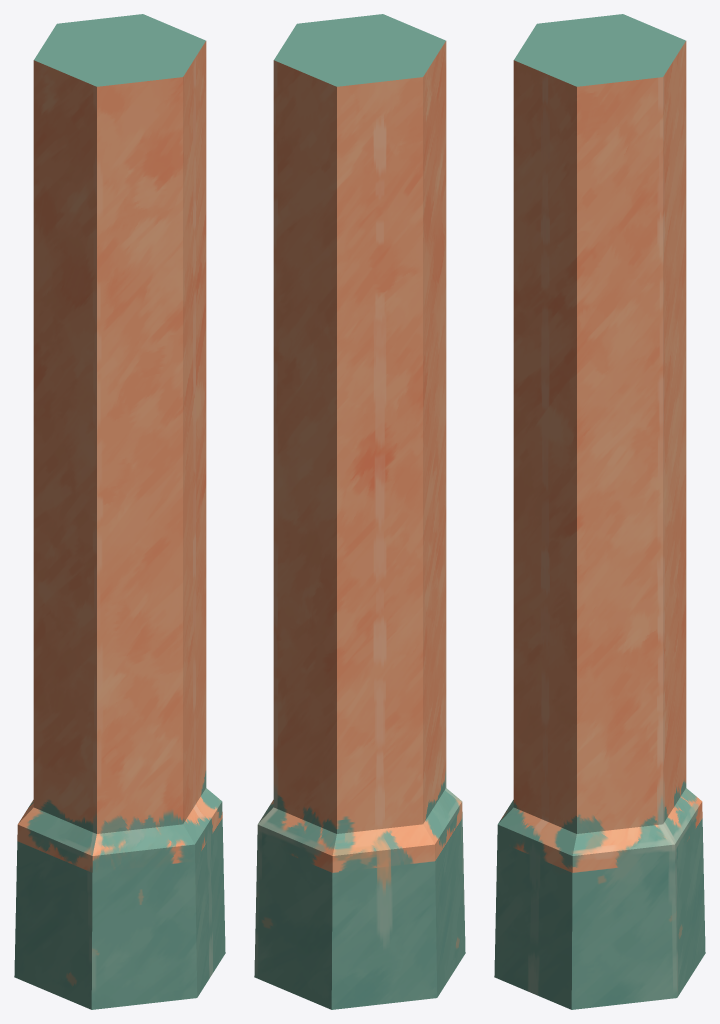
File: corner_low.fbx
3 views of the same model, side by side, from view 1: azimuth 30°, elevation 25°; view 2: azimuth 150°, elevation 25°; view 3: azimuth 270°, elevation 25° (orthographic).
Visible parts, largest first — view 1: corner; view 2: corner; view 3: corner.
Part boxes in pixels (bbox=[...]): corner: bbox=[14, 14, 225, 1009]; corner: bbox=[254, 14, 465, 1009]; corner: bbox=[494, 14, 705, 1009].
Size of the model in its own units: 2.51 by 12 by 2.51.
1 material, 1 textured.
